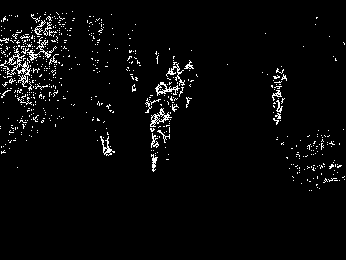person: (145, 82, 176, 170), (265, 66, 294, 131)
